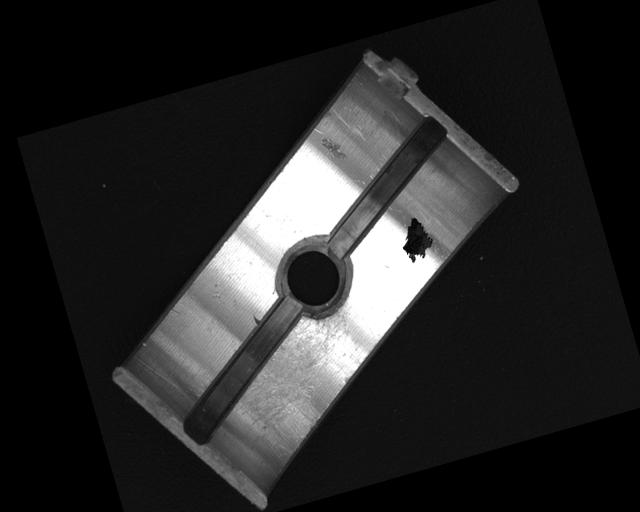blot: (394, 212, 439, 265)
bruise: (319, 131, 351, 166), (251, 312, 262, 326)
gap: (157, 293, 330, 445), (306, 115, 470, 256)
hole: (270, 234, 359, 322)
scratch: (217, 298, 379, 451)
